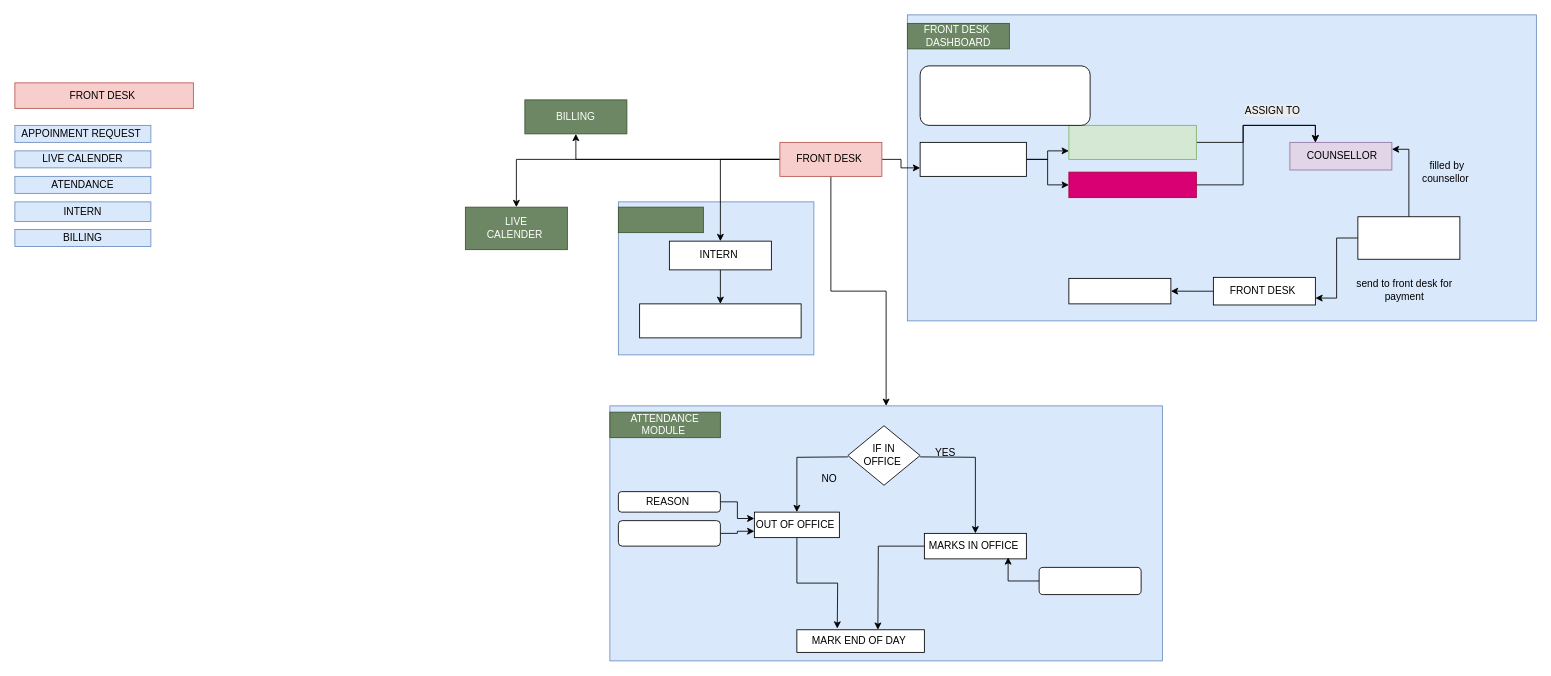
This 1551x676 diagram has some shape labels left out. Each missing label, with the box of its shape:
ATHLETE , VISTORS , ORGANIZATION: (919, 65, 1090, 125)
FEED BACK FORM ( PACKAGES DETAILS): (1357, 216, 1460, 259)
FRESH REQUEST (GREEN): (1068, 125, 1196, 159)
INTERN DASHBOARD: (618, 206, 703, 233)
LOCATION: (618, 520, 720, 546)
NEW REGISTRATION: (919, 142, 1026, 176)
PAYMENT: (1068, 278, 1171, 304)
REQUEST AFTER 10 MIN (RED): (1068, 171, 1196, 198)
SELECT LOCATION: (1038, 567, 1141, 595)
VERIFICATION OF PAYMENT & DOCUMENTATION: (639, 303, 801, 338)
